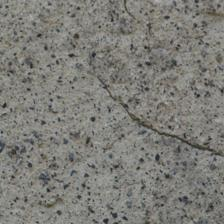Crack: (97, 75, 223, 157)
